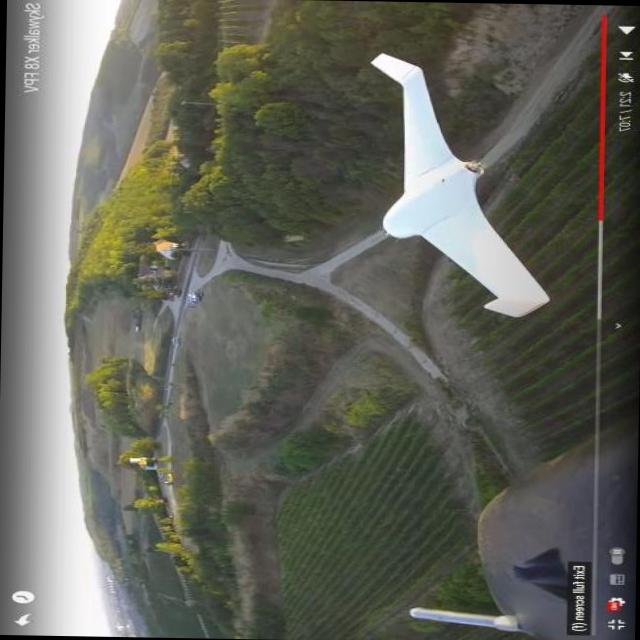UAV: (350, 54, 517, 372)
